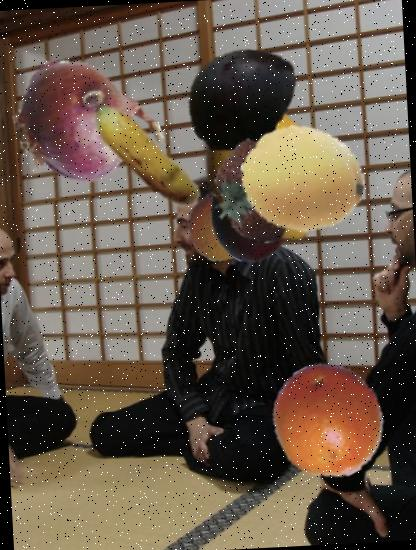Banana: (72, 82, 218, 228)
Chestnut: (198, 154, 307, 263)
Lemon: (188, 98, 342, 252)
Mandarine: (184, 183, 266, 265)
Onion: (12, 44, 157, 188)
Peach: (237, 113, 368, 244)
Plum: (180, 34, 304, 159)
Strawberry: (197, 135, 309, 247)
Tangelo: (268, 358, 392, 482)
